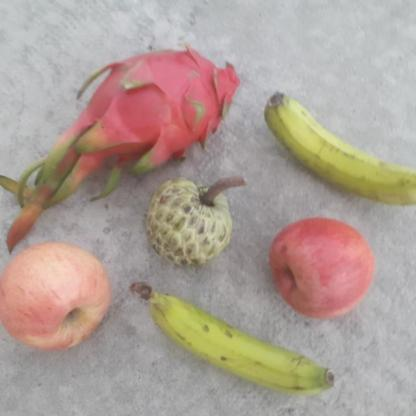annona: (141, 177, 244, 270)
apple: (2, 239, 114, 354), (270, 215, 381, 321)
banana: (131, 282, 340, 398), (264, 85, 416, 204)
pitaya: (245, 0, 414, 134)
